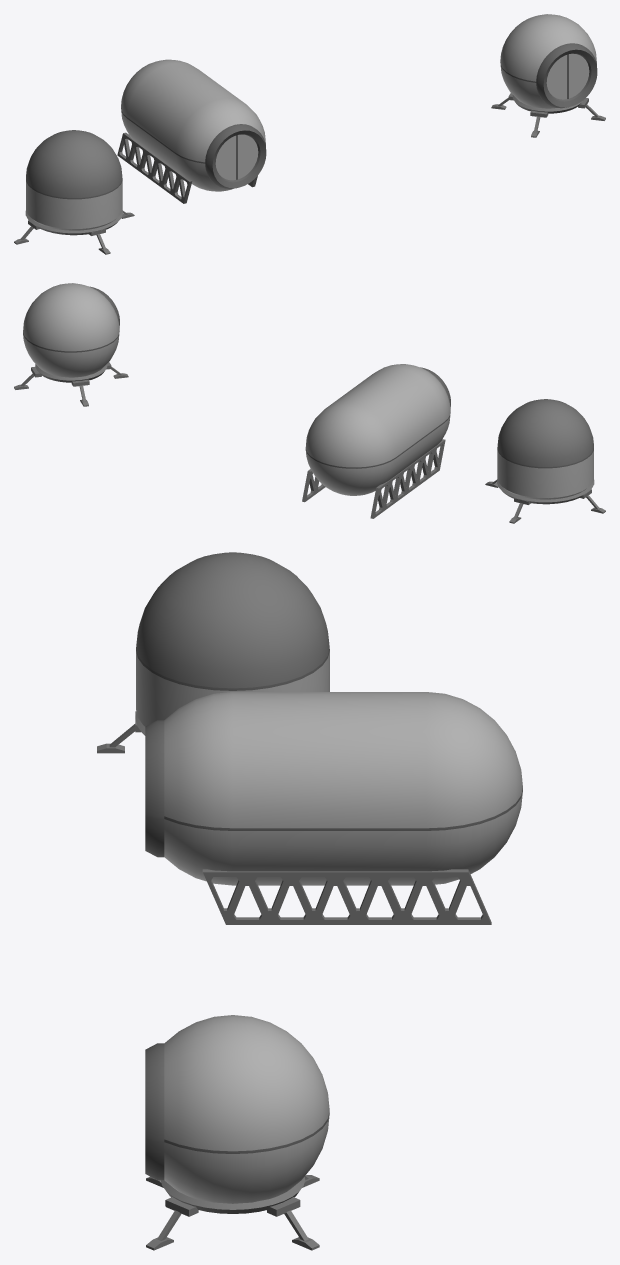
File: House Pod.glb
3 views of the same model, one above another, from view 1: azimuth 30°, elevation 25°; view 2: azimuth 150°, elevation 25°; view 3: azimuth 270°, elevation 25° (orthographic). The views are drawn at different scales.
Parts seen in each view (by area): view 1: House_Long, House_Cylinder, House_Single_Support; view 2: House_Long, House_Cylinder, House_Single_Support; view 3: House_Long, House_Single_Support, House_Cylinder.
Boxes of the visible parts, x1,y1,x2,y2 form: House_Long: [117, 59, 266, 203]; House_Cylinder: [14, 130, 134, 254]; House_Single_Support: [491, 14, 605, 137]; House_Long: [302, 364, 450, 518]; House_Cylinder: [485, 399, 605, 523]; House_Single_Support: [14, 283, 128, 406]; House_Long: [145, 692, 522, 924]; House_Single_Support: [145, 1015, 329, 1250]; House_Cylinder: [97, 552, 329, 753].
Size of the model in its own units: 27.4 by 4.32 by 8.79.
4 materials, 4 textured.
